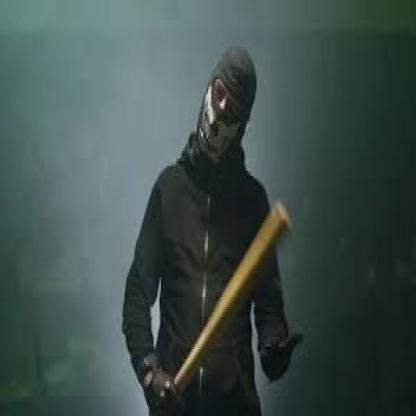criminal: (122, 46, 307, 416)
